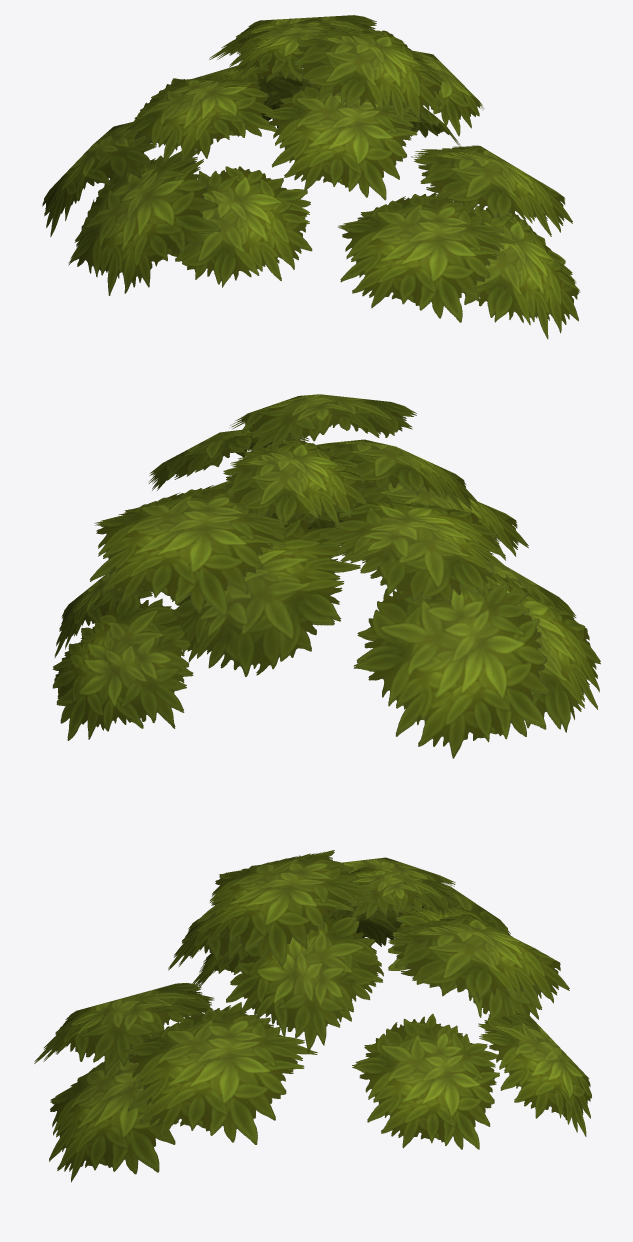
File: tree_03.FBX
The picture shows the model from 3 angles, top to bottom: view 1: azimuth 30°, elevation 25°; view 2: azimuth 150°, elevation 25°; view 3: azimuth 270°, elevation 25°; orthographic projection. The views are drawn at different scales.
Visible parts, largest first — view 1: polySurface323; view 2: polySurface323; view 3: polySurface323.
Part boxes in pixels (left/top/right/bottom): polySurface323: left=42, top=15, right=580, bottom=339; polySurface323: left=52, top=394, right=600, bottom=758; polySurface323: left=34, top=850, right=591, bottom=1182.
Size of the model in its own units: 601 by 310 by 624.
Materials: 1 (1 with a texture image).
